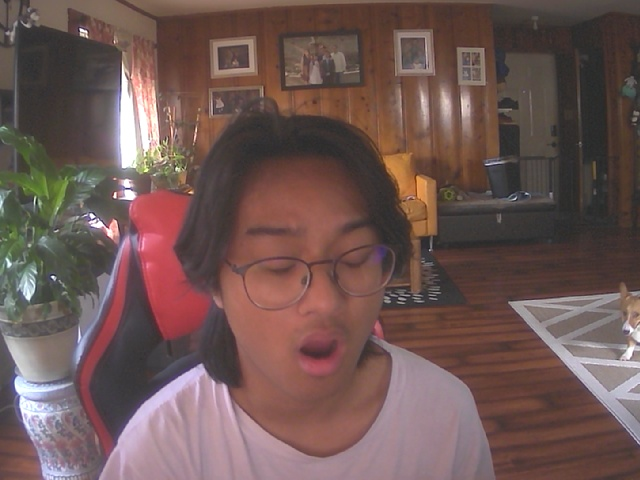fear: (204, 133, 401, 408)
